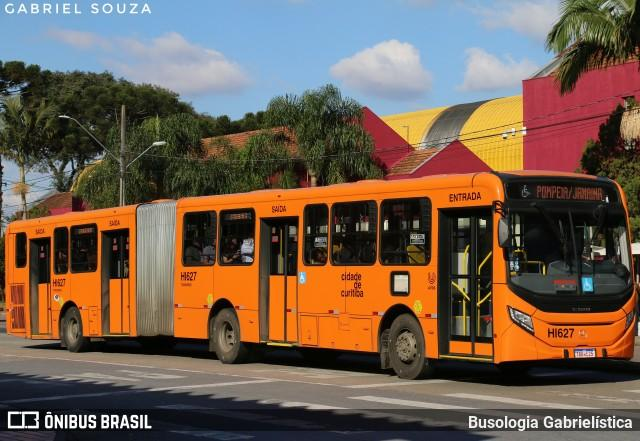POMPEIA JANAINA: (531, 181, 608, 208)
